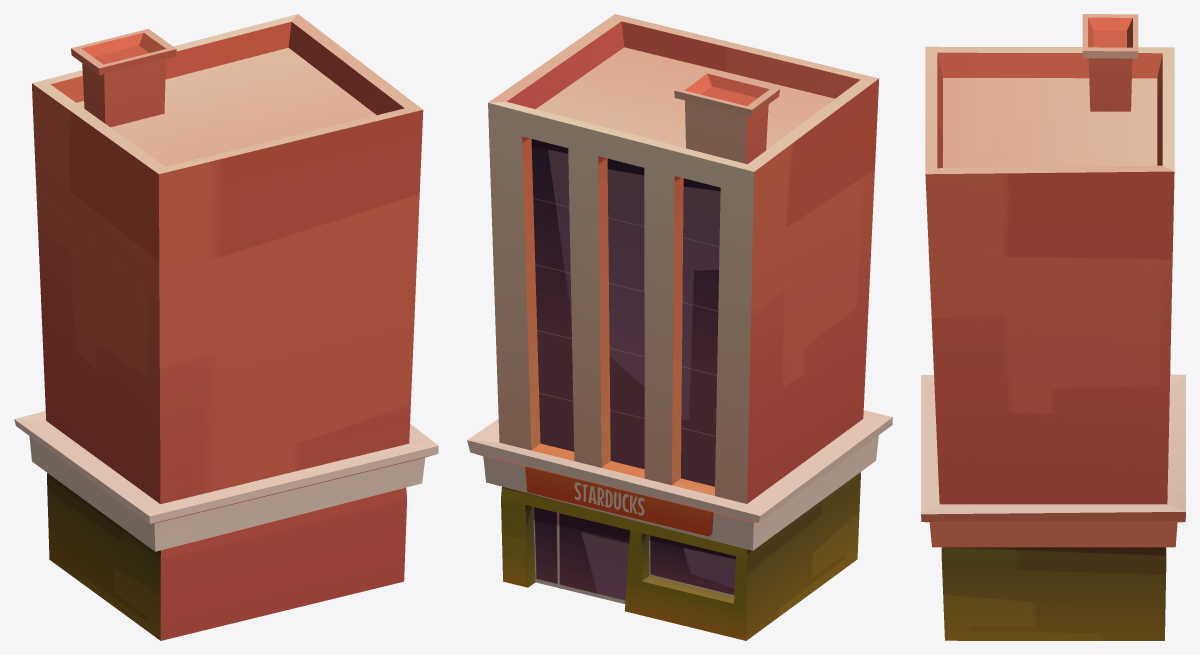
File: Building_02.FBX
The picture shows the model from 3 angles, left to right: view 1: azimuth 30°, elevation 25°; view 2: azimuth 150°, elevation 25°; view 3: azimuth 270°, elevation 25°; orthographic projection.
Parts seen in each view (by area): view 1: Building_02; view 2: Building_02; view 3: Building_02.
Boxes of the visible parts, x1,y1,x2,y2 form: Building_02: (14, 14, 438, 640); Building_02: (467, 14, 892, 640); Building_02: (921, 14, 1185, 640).
Size of the model in its own units: 1203 by 2038 by 952.
